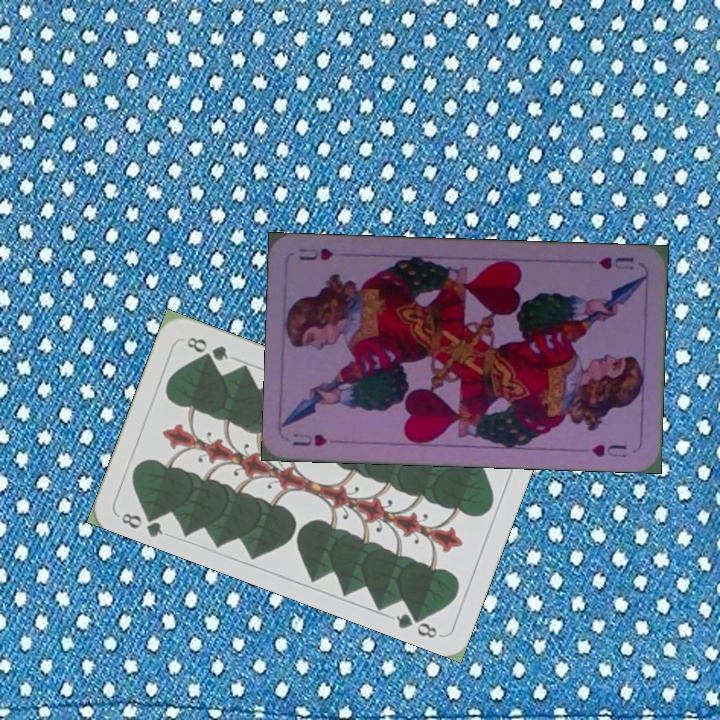G8: (117, 506, 166, 539)
HU: (288, 429, 330, 449), (593, 253, 637, 272)
